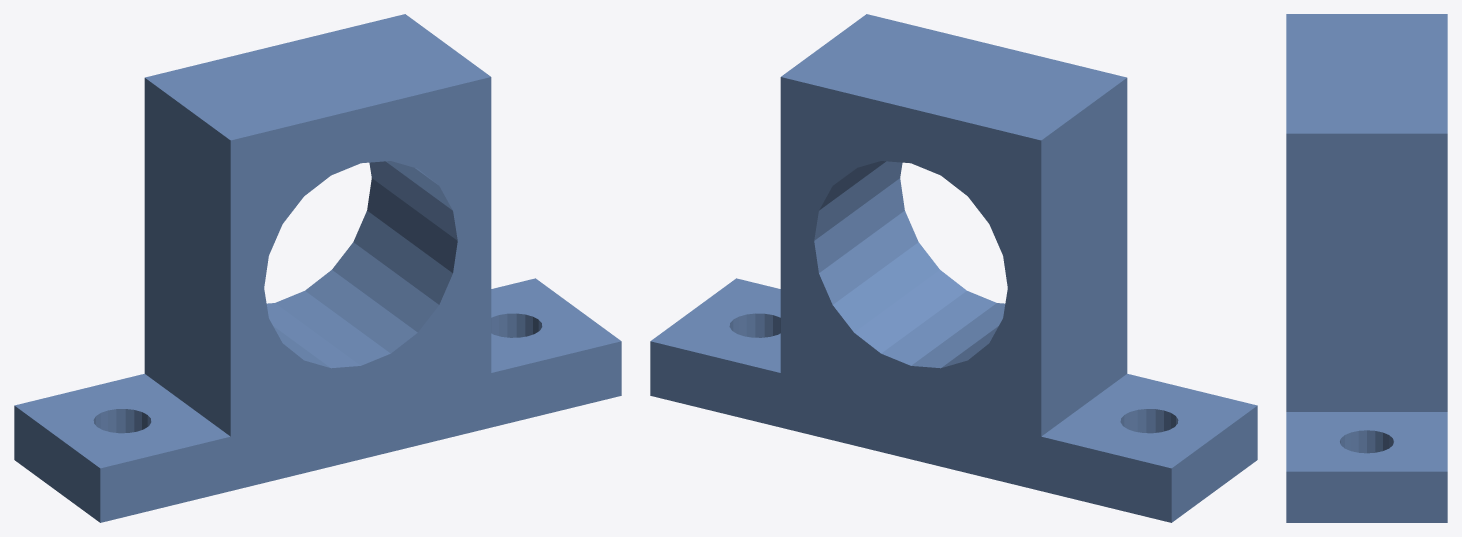
File: bearing-pillow.glb
The picture shows the model from 3 angles, left to right: view 1: azimuth 30°, elevation 25°; view 2: azimuth 150°, elevation 25°; view 3: azimuth 270°, elevation 25°; orthographic projection. The views are drawn at different scales.
Parts seen in each view (by area): view 1: body; view 2: body; view 3: body.
Part boxes in pixels (bbox=[...]): body: bbox=[14, 14, 621, 522]; body: bbox=[650, 14, 1257, 522]; body: bbox=[1286, 14, 1447, 522].
Size of what is drawn, in the model's own units: 0.14 by 0.09 by 0.04.
